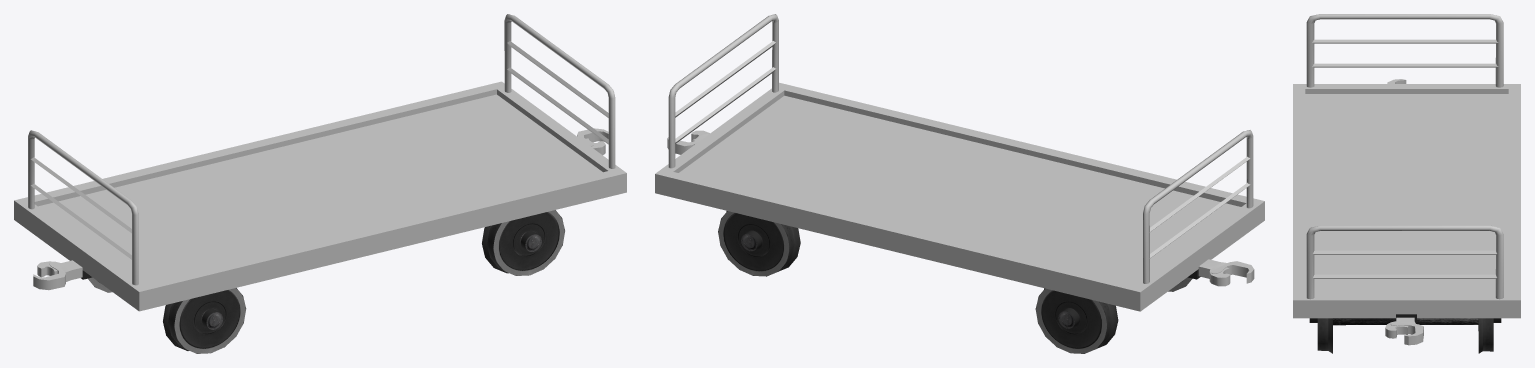
File: TrainsCart_Cargo01.FBX
3 renders of one model, left to right at view 1: azimuth 30°, elevation 25°; view 2: azimuth 150°, elevation 25°; view 3: azimuth 270°, elevation 25°, orthographic. The views are drawn at different scales.
Parts seen in each view (by area): view 1: TrainsCart_Cargo01, TrainsCart_Cargo01Wheels; view 2: TrainsCart_Cargo01, TrainsCart_Cargo01Wheels; view 3: TrainsCart_Cargo01, TrainsCart_Cargo01Wheels.
Boxes of the visible parts, left/top/right/bottom form: TrainsCart_Cargo01: left=14, top=14, right=626, bottom=311; TrainsCart_Cargo01Wheels: left=81, top=210, right=564, bottom=353; TrainsCart_Cargo01: left=655, top=14, right=1264, bottom=311; TrainsCart_Cargo01Wheels: left=718, top=211, right=1200, bottom=353; TrainsCart_Cargo01: left=1293, top=14, right=1520, bottom=345; TrainsCart_Cargo01Wheels: left=1309, top=314, right=1501, bottom=353.
Size of the model in its own units: 11505 by 3315 by 4301.
